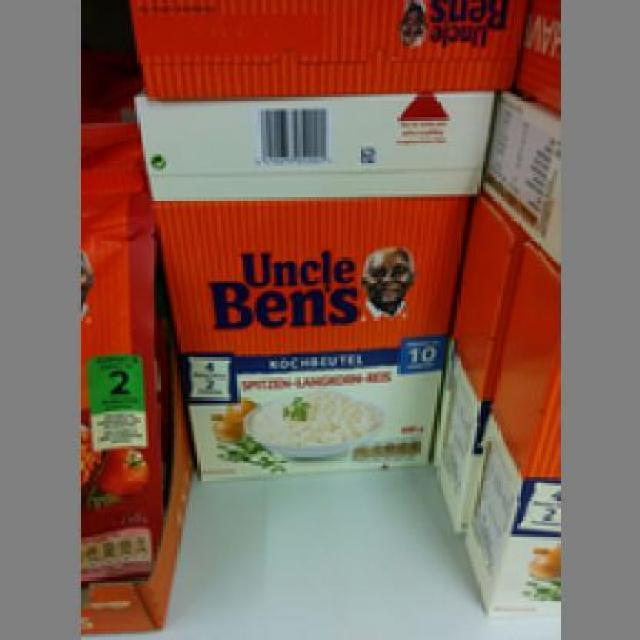Rice: (148, 194, 472, 477)
